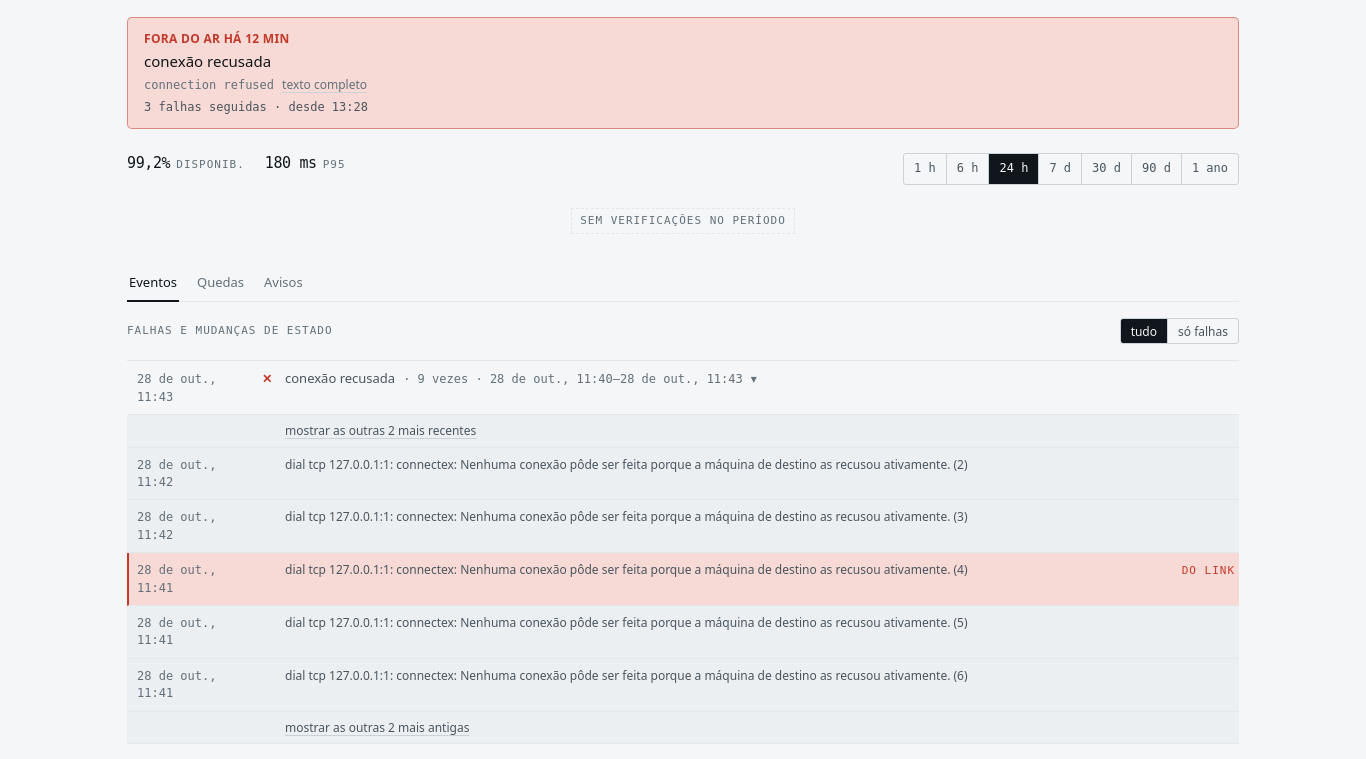
Scenario: MonitorDetail: falhas repetidas › aberto por clique, mostra o grupo inteiro mesmo com a falha do link dentro
(page scrolled)
Click the button "9 vezes" at (333, 377), box top-left (285, 369), bottom-right (1235, 389)
(page scrolled)
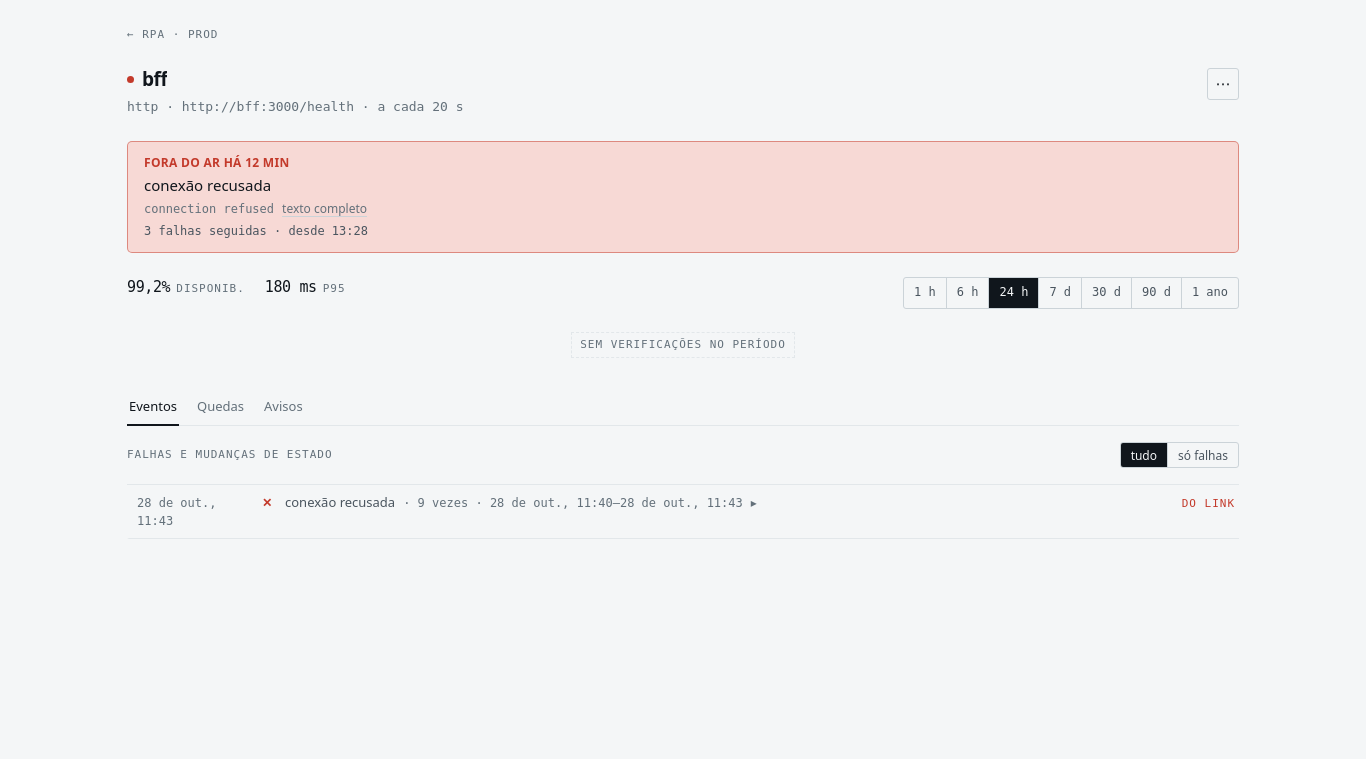
Click the button "9 vezes" at (727, 503), box top-left (285, 493), bottom-right (1170, 513)
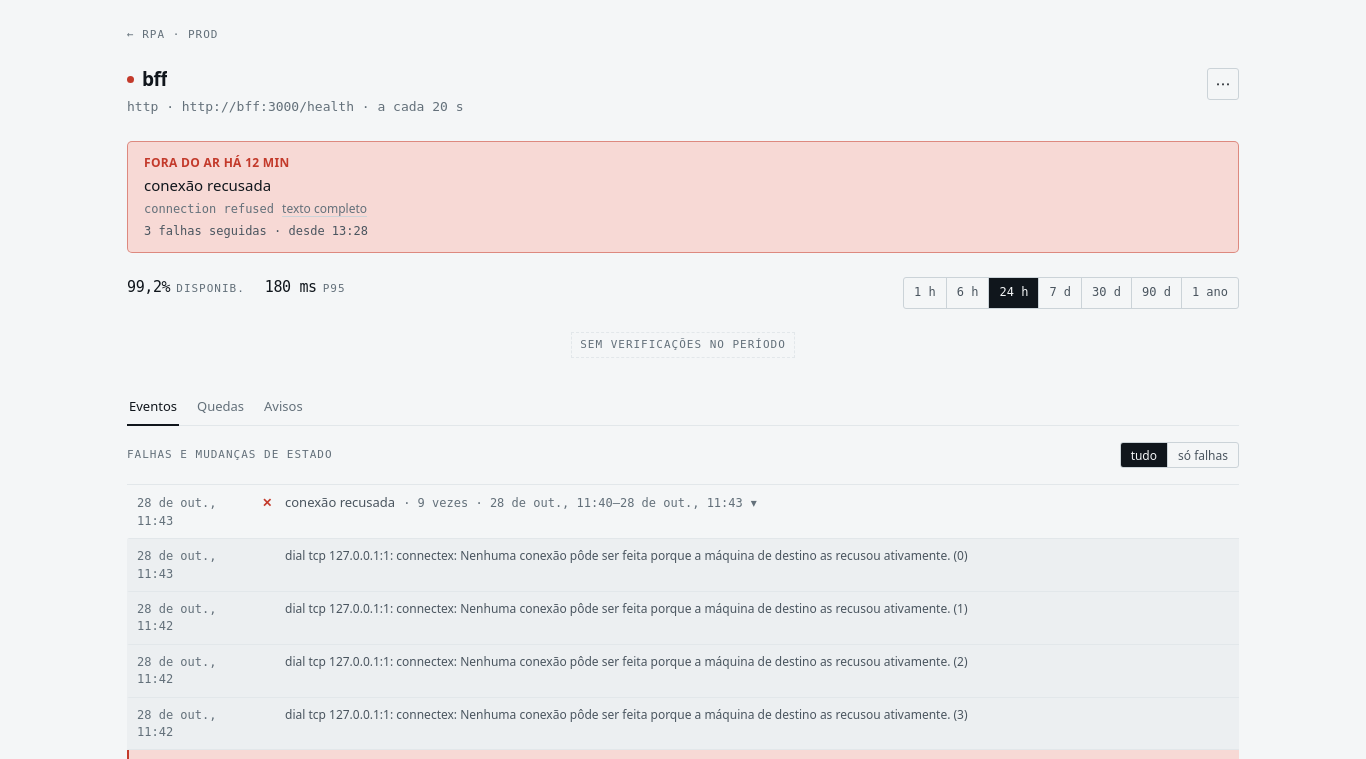
expect the text "connectex" is shown 9 times: met
